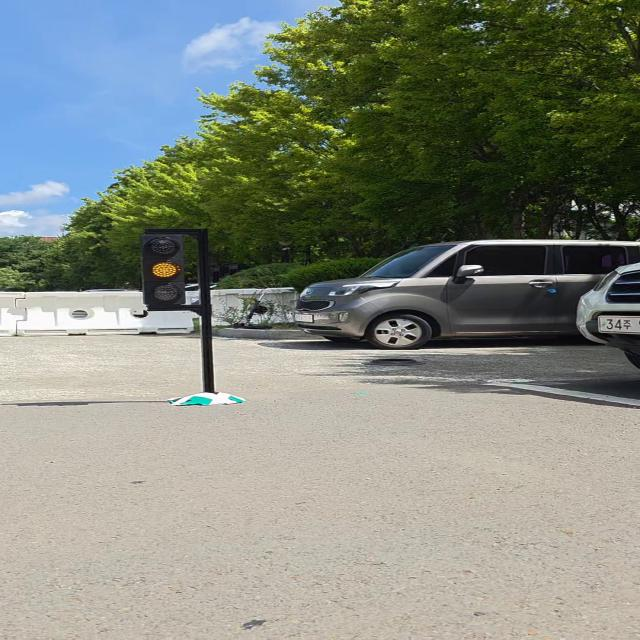yellow: (140, 232, 185, 306)
